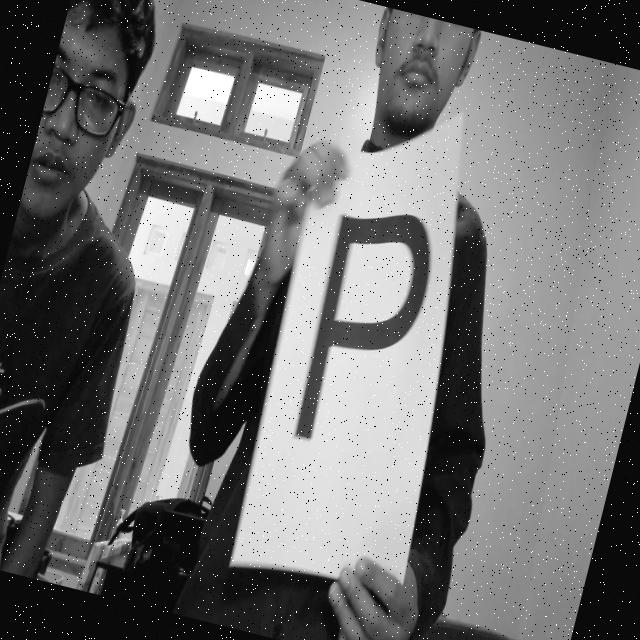p: (252, 174, 466, 533)
